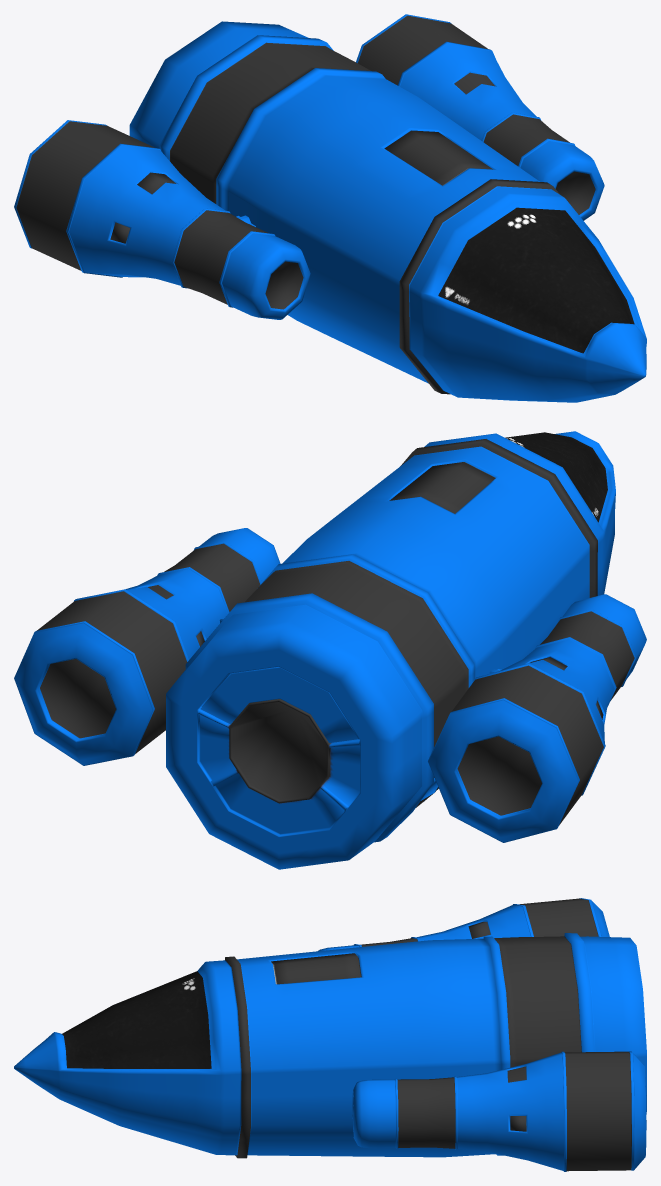
Rendered from SpaceShip.obj.
3 views of the same model, one above another, from view 1: azimuth 30°, elevation 25°; view 2: azimuth 150°, elevation 25°; view 3: azimuth 270°, elevation 25° (orthographic). The views are drawn at different scales.
Parts seen in each view (by area): view 1: SpaceCraft-Blue_Cylinder.003; view 2: SpaceCraft-Blue_Cylinder.003; view 3: SpaceCraft-Blue_Cylinder.003.
Boxes of the visible parts, x1,y1,x2,y2 form: SpaceCraft-Blue_Cylinder.003: (14,14,646,402); SpaceCraft-Blue_Cylinder.003: (14,431,646,869); SpaceCraft-Blue_Cylinder.003: (14,898,646,1171).
Bounding box in the file's own units: 7.13 × 3.25 × 9.18.
1 material, 1 textured.
